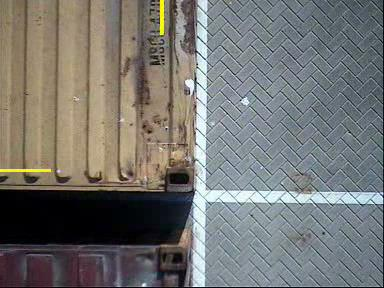groundmarker_2: (153, 182, 246, 221)
